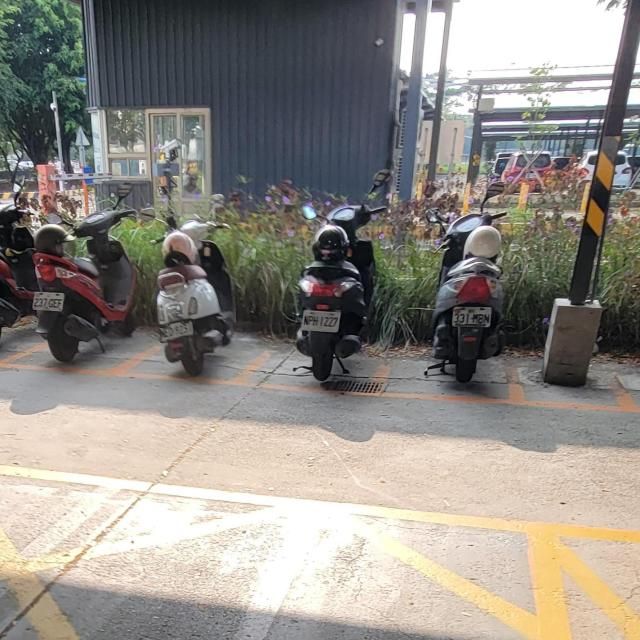W: (450, 303, 498, 329), (156, 316, 199, 343), (298, 308, 341, 333), (29, 289, 65, 313)
